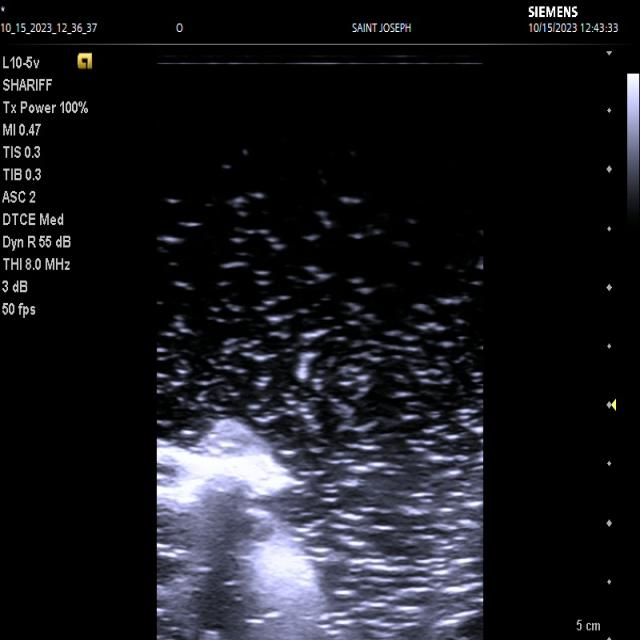tissue: (157, 419, 318, 640)
